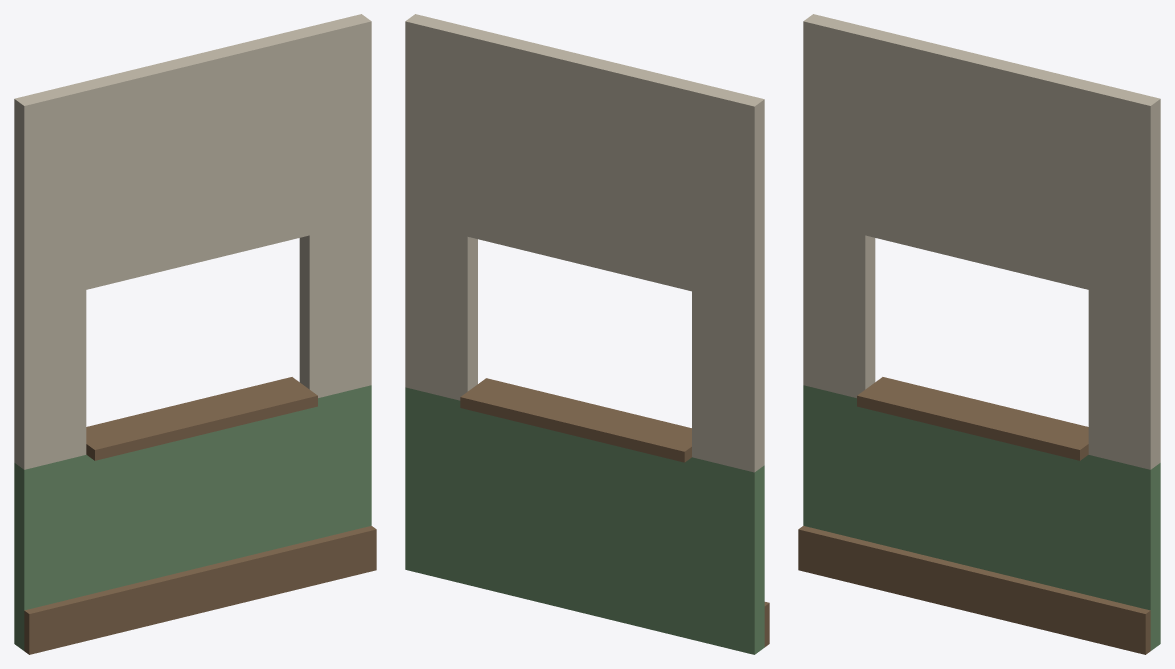
File: Mesh_WallBaseboard2Colors_E3.fbx
3 views of the same model, side by side, from view 1: azimuth 30°, elevation 25°; view 2: azimuth 150°, elevation 25°; view 3: azimuth 330°, elevation 25° (orthographic).
Visible parts, largest first — view 1: Mesh_WallBaseboard2Colors_E3; view 2: Mesh_WallBaseboard2Colors_E3; view 3: Mesh_WallBaseboard2Colors_E3.
Boxes of the visible parts, x1=… form: Mesh_WallBaseboard2Colors_E3: x1=14, y1=14, x2=376, y2=654; Mesh_WallBaseboard2Colors_E3: x1=405, y1=14, x2=769, y2=654; Mesh_WallBaseboard2Colors_E3: x1=798, y1=14, x2=1160, y2=654.
Bounding box in the file's own units: 2 × 3 × 0.2574.
